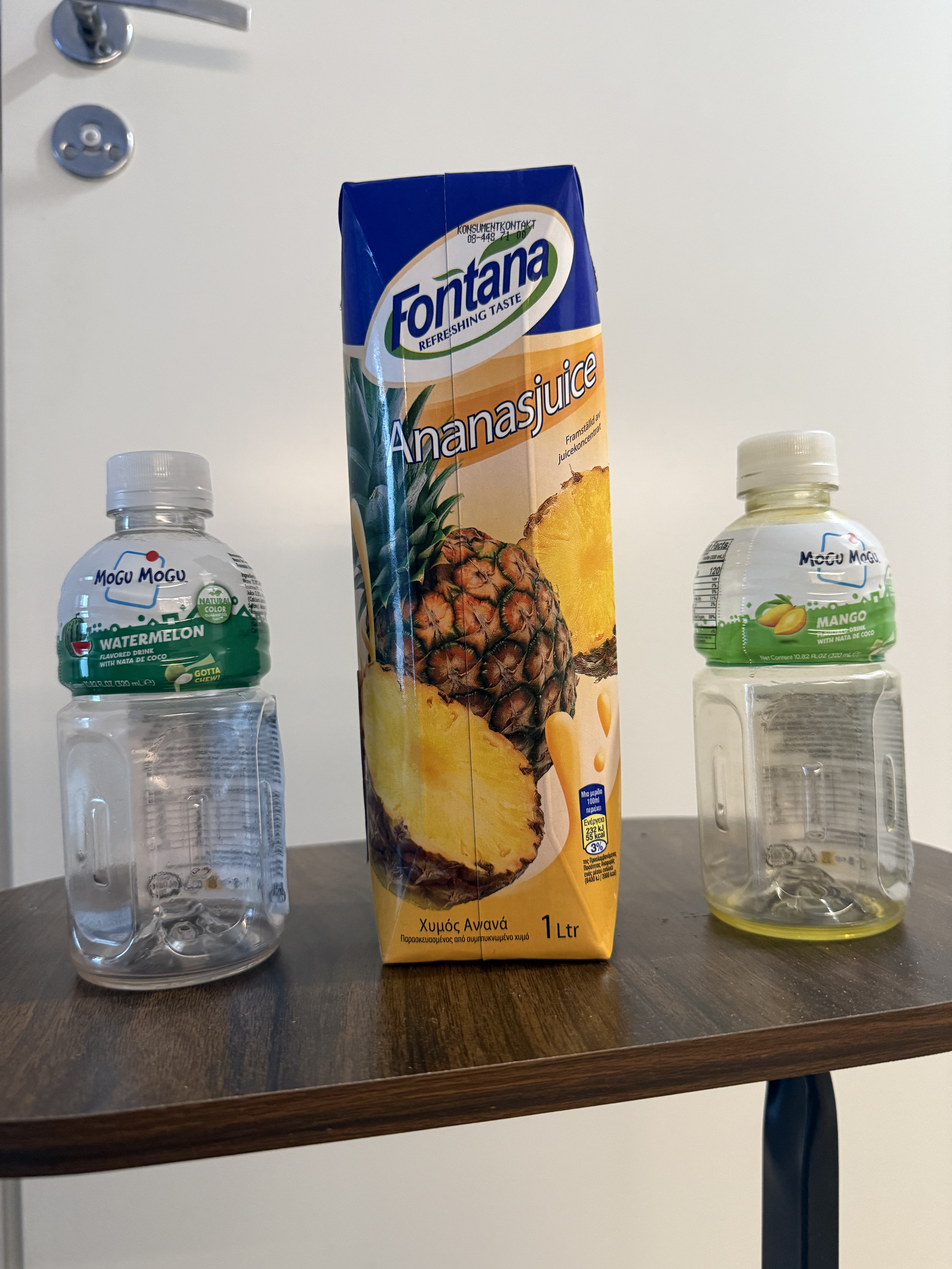Dryckeskartong: (335, 175, 624, 971)
Pantburk: (45, 434, 289, 980), (696, 420, 920, 945)
